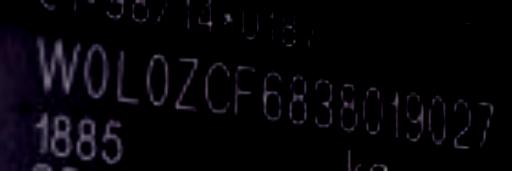letter: (29, 33, 83, 94), (197, 58, 233, 123), (80, 40, 112, 105), (110, 43, 142, 108), (139, 47, 171, 112), (172, 51, 204, 116), (228, 59, 258, 128), (306, 73, 336, 134), (332, 76, 362, 137), (398, 87, 428, 145), (358, 84, 388, 141), (256, 65, 284, 126), (424, 90, 450, 148), (450, 94, 474, 156), (286, 69, 310, 130), (472, 94, 496, 152), (384, 84, 404, 141)
